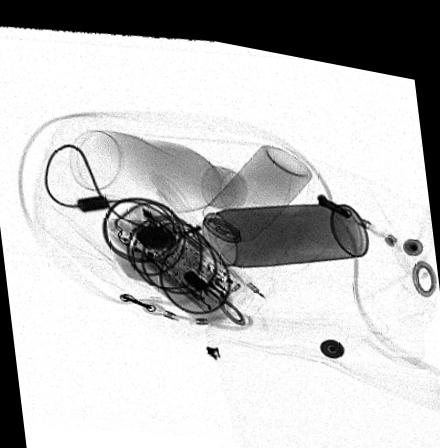Sprayer: (187, 133, 311, 246)
